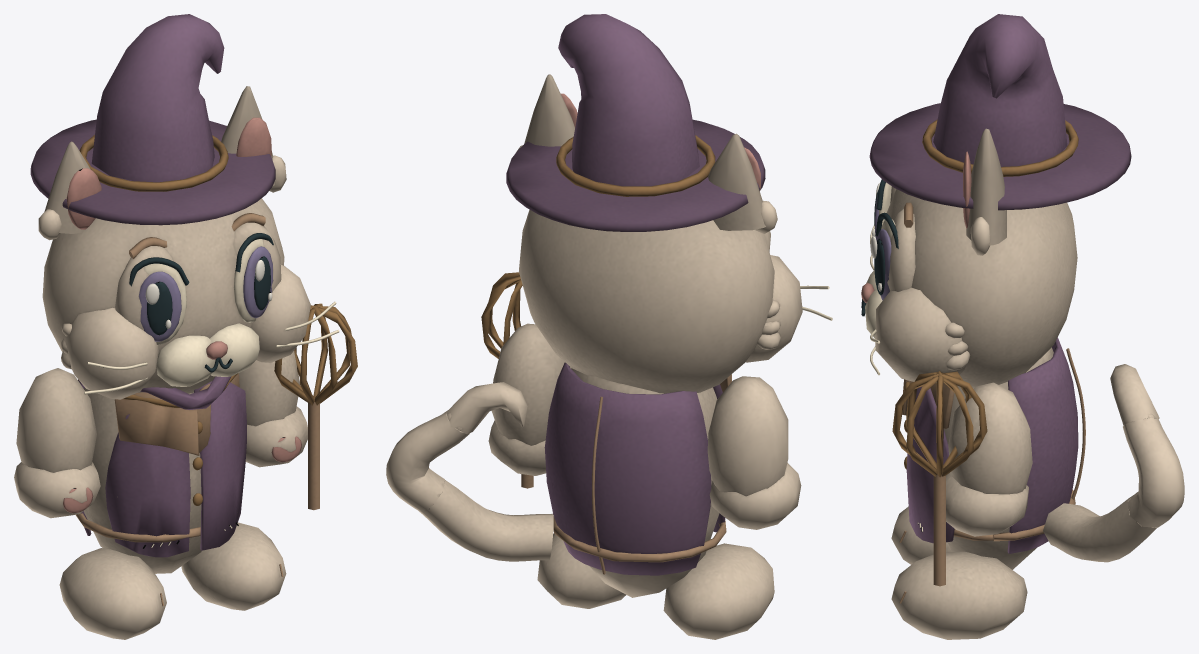
File: mallow.glb
The picture shows the model from 3 angles, left to right: view 1: azimuth 30°, elevation 25°; view 2: azimuth 150°, elevation 25°; view 3: azimuth 270°, elevation 25°; orthographic projection. The views are drawn at different scales.
Visible parts, largest first — view 1: cheek-head, pear-body, arm, hind-paw, porcelain-eye, hind-paw.001, arm.001, whisk-handle, rounded-ear-L, rounded-ear-R, nose; view 2: cheek-head, pear-body, arm, hind-paw, arm.001, tail-root, tail-mid, rounded-ear-L, hind-paw.001, tail-tip, rounded-ear-R, whisk-handle; view 3: cheek-head, pear-body, arm.001, hind-paw.001, whisk-handle, tail-mid, tail-root, rounded-ear-R, porcelain-eye, tail-tip, hind-paw.
Boxes of the visible parts, bbox=[...] form: cheek-head: bbox=[30, 14, 339, 399]; pear-body: bbox=[75, 373, 246, 573]; arm: bbox=[14, 368, 100, 518]; hind-paw: bbox=[59, 548, 166, 639]; porcelain-eye: bbox=[129, 233, 273, 345]; hind-paw.001: bbox=[181, 522, 286, 610]; arm.001: bbox=[239, 351, 307, 467]; whisk-handle: bbox=[274, 303, 357, 510]; rounded-ear-L: bbox=[38, 141, 101, 240]; rounded-ear-R: bbox=[221, 86, 286, 192]; nose: bbox=[204, 341, 232, 372]; cheek-head: bbox=[506, 14, 832, 393]; pear-body: bbox=[544, 362, 731, 597]; arm: bbox=[707, 376, 801, 529]; hind-paw: bbox=[663, 543, 774, 639]; arm.001: bbox=[488, 323, 571, 475]; tail-root: bbox=[417, 480, 553, 561]; tail-mid: bbox=[386, 410, 469, 511]; rounded-ear-L: bbox=[708, 133, 777, 233]; hind-paw.001: bbox=[537, 533, 625, 608]; tail-tip: bbox=[446, 382, 527, 434]; rounded-ear-R: bbox=[516, 74, 577, 152]; whisk-handle: bbox=[481, 272, 533, 488]; cheek-head: bbox=[865, 14, 1131, 387]; pear-body: bbox=[902, 337, 1085, 569]; arm.001: bbox=[946, 382, 1032, 536]; hind-paw.001: bbox=[891, 551, 1027, 639]; whisk-handle: bbox=[892, 371, 987, 586]; tail-mid: bbox=[1123, 418, 1184, 527]; tail-root: bbox=[1043, 494, 1156, 562]; rounded-ear-R: bbox=[963, 128, 1006, 255]; porcelain-eye: bbox=[870, 179, 898, 300]; tail-tip: bbox=[1110, 364, 1159, 425]; hind-paw: bbox=[891, 506, 951, 564].
Bounding box in the file's own units: 0.8303 × 1.45 × 0.7113.
Materials: 1 (1 with a texture image).
